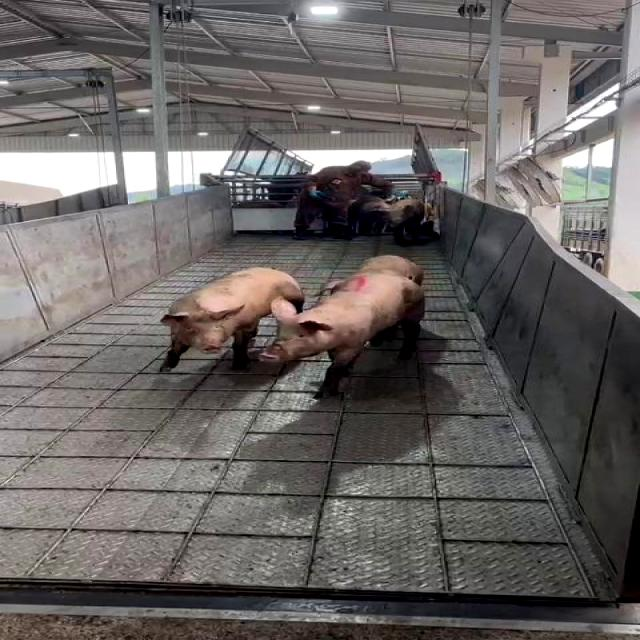pig: (262, 272, 424, 396), (161, 268, 303, 370), (359, 256, 423, 283)
